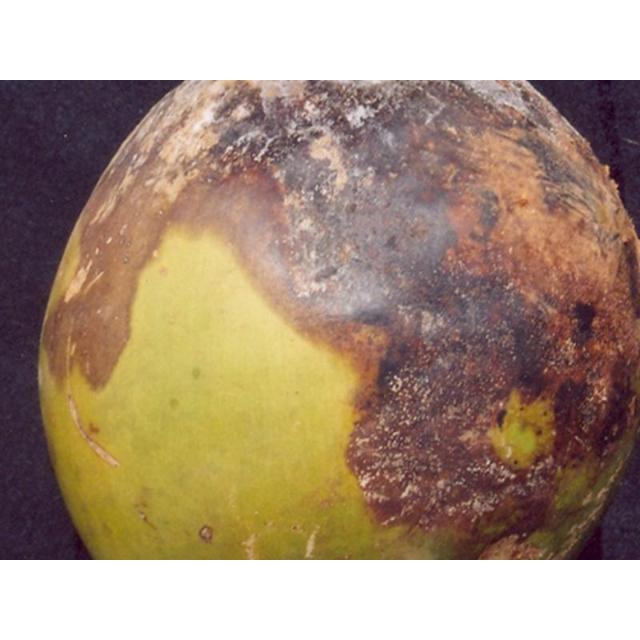damaged: (36, 80, 639, 559)
